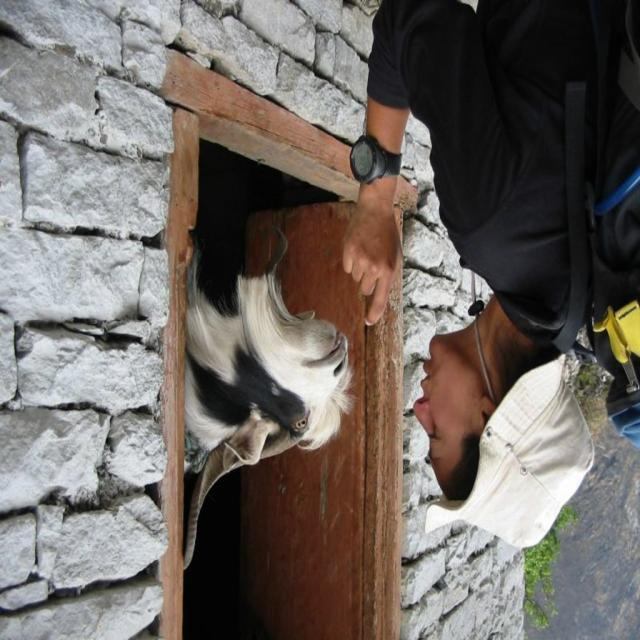Goat: (181, 224, 357, 573)
